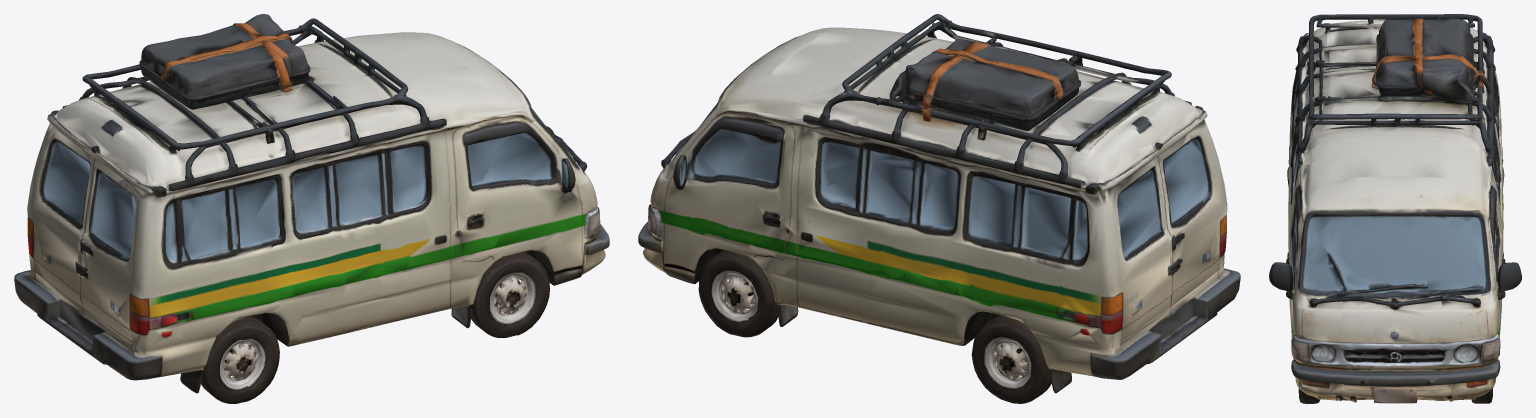
File: tokpa.glb
The picture shows the model from 3 angles, left to right: view 1: azimuth 30°, elevation 25°; view 2: azimuth 150°, elevation 25°; view 3: azimuth 270°, elevation 25°; orthographic projection. The views are drawn at different scales.
Parts seen in each view (by area): view 1: tripo_node_0930b12c-4376-4820-b959-d7e9bcef01a2; view 2: tripo_node_0930b12c-4376-4820-b959-d7e9bcef01a2; view 3: tripo_node_0930b12c-4376-4820-b959-d7e9bcef01a2.
Boxes of the visible parts, x1,y1,x2,y2 form: tripo_node_0930b12c-4376-4820-b959-d7e9bcef01a2: (14, 14, 609, 403); tripo_node_0930b12c-4376-4820-b959-d7e9bcef01a2: (638, 14, 1240, 403); tripo_node_0930b12c-4376-4820-b959-d7e9bcef01a2: (1269, 14, 1521, 403).
Bounding box in the file's own units: 0.9997 × 0.5684 × 0.4915.
Materials: 1 (1 with a texture image).
